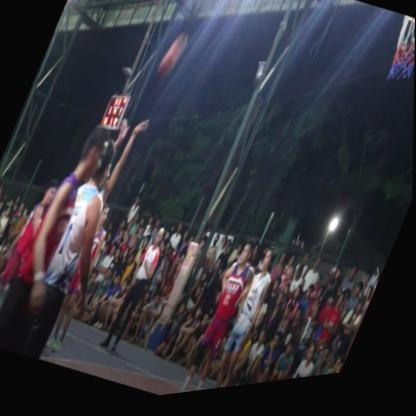basketball: (153, 35, 189, 88)
rim: (374, 24, 415, 106)
